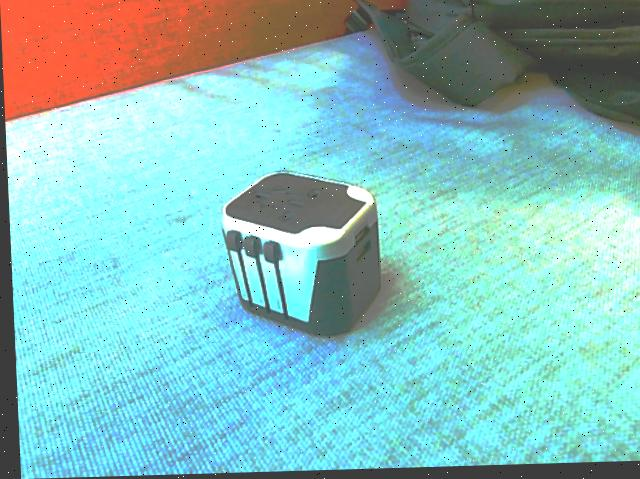adapter: (216, 170, 381, 341)
